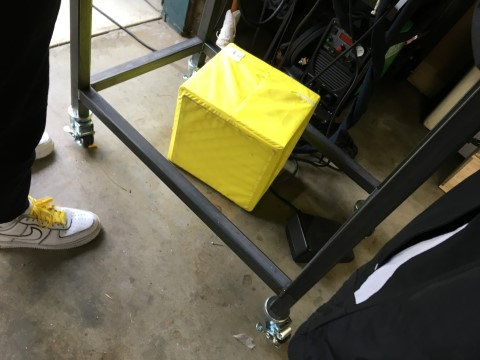cube: (166, 41, 321, 210)
